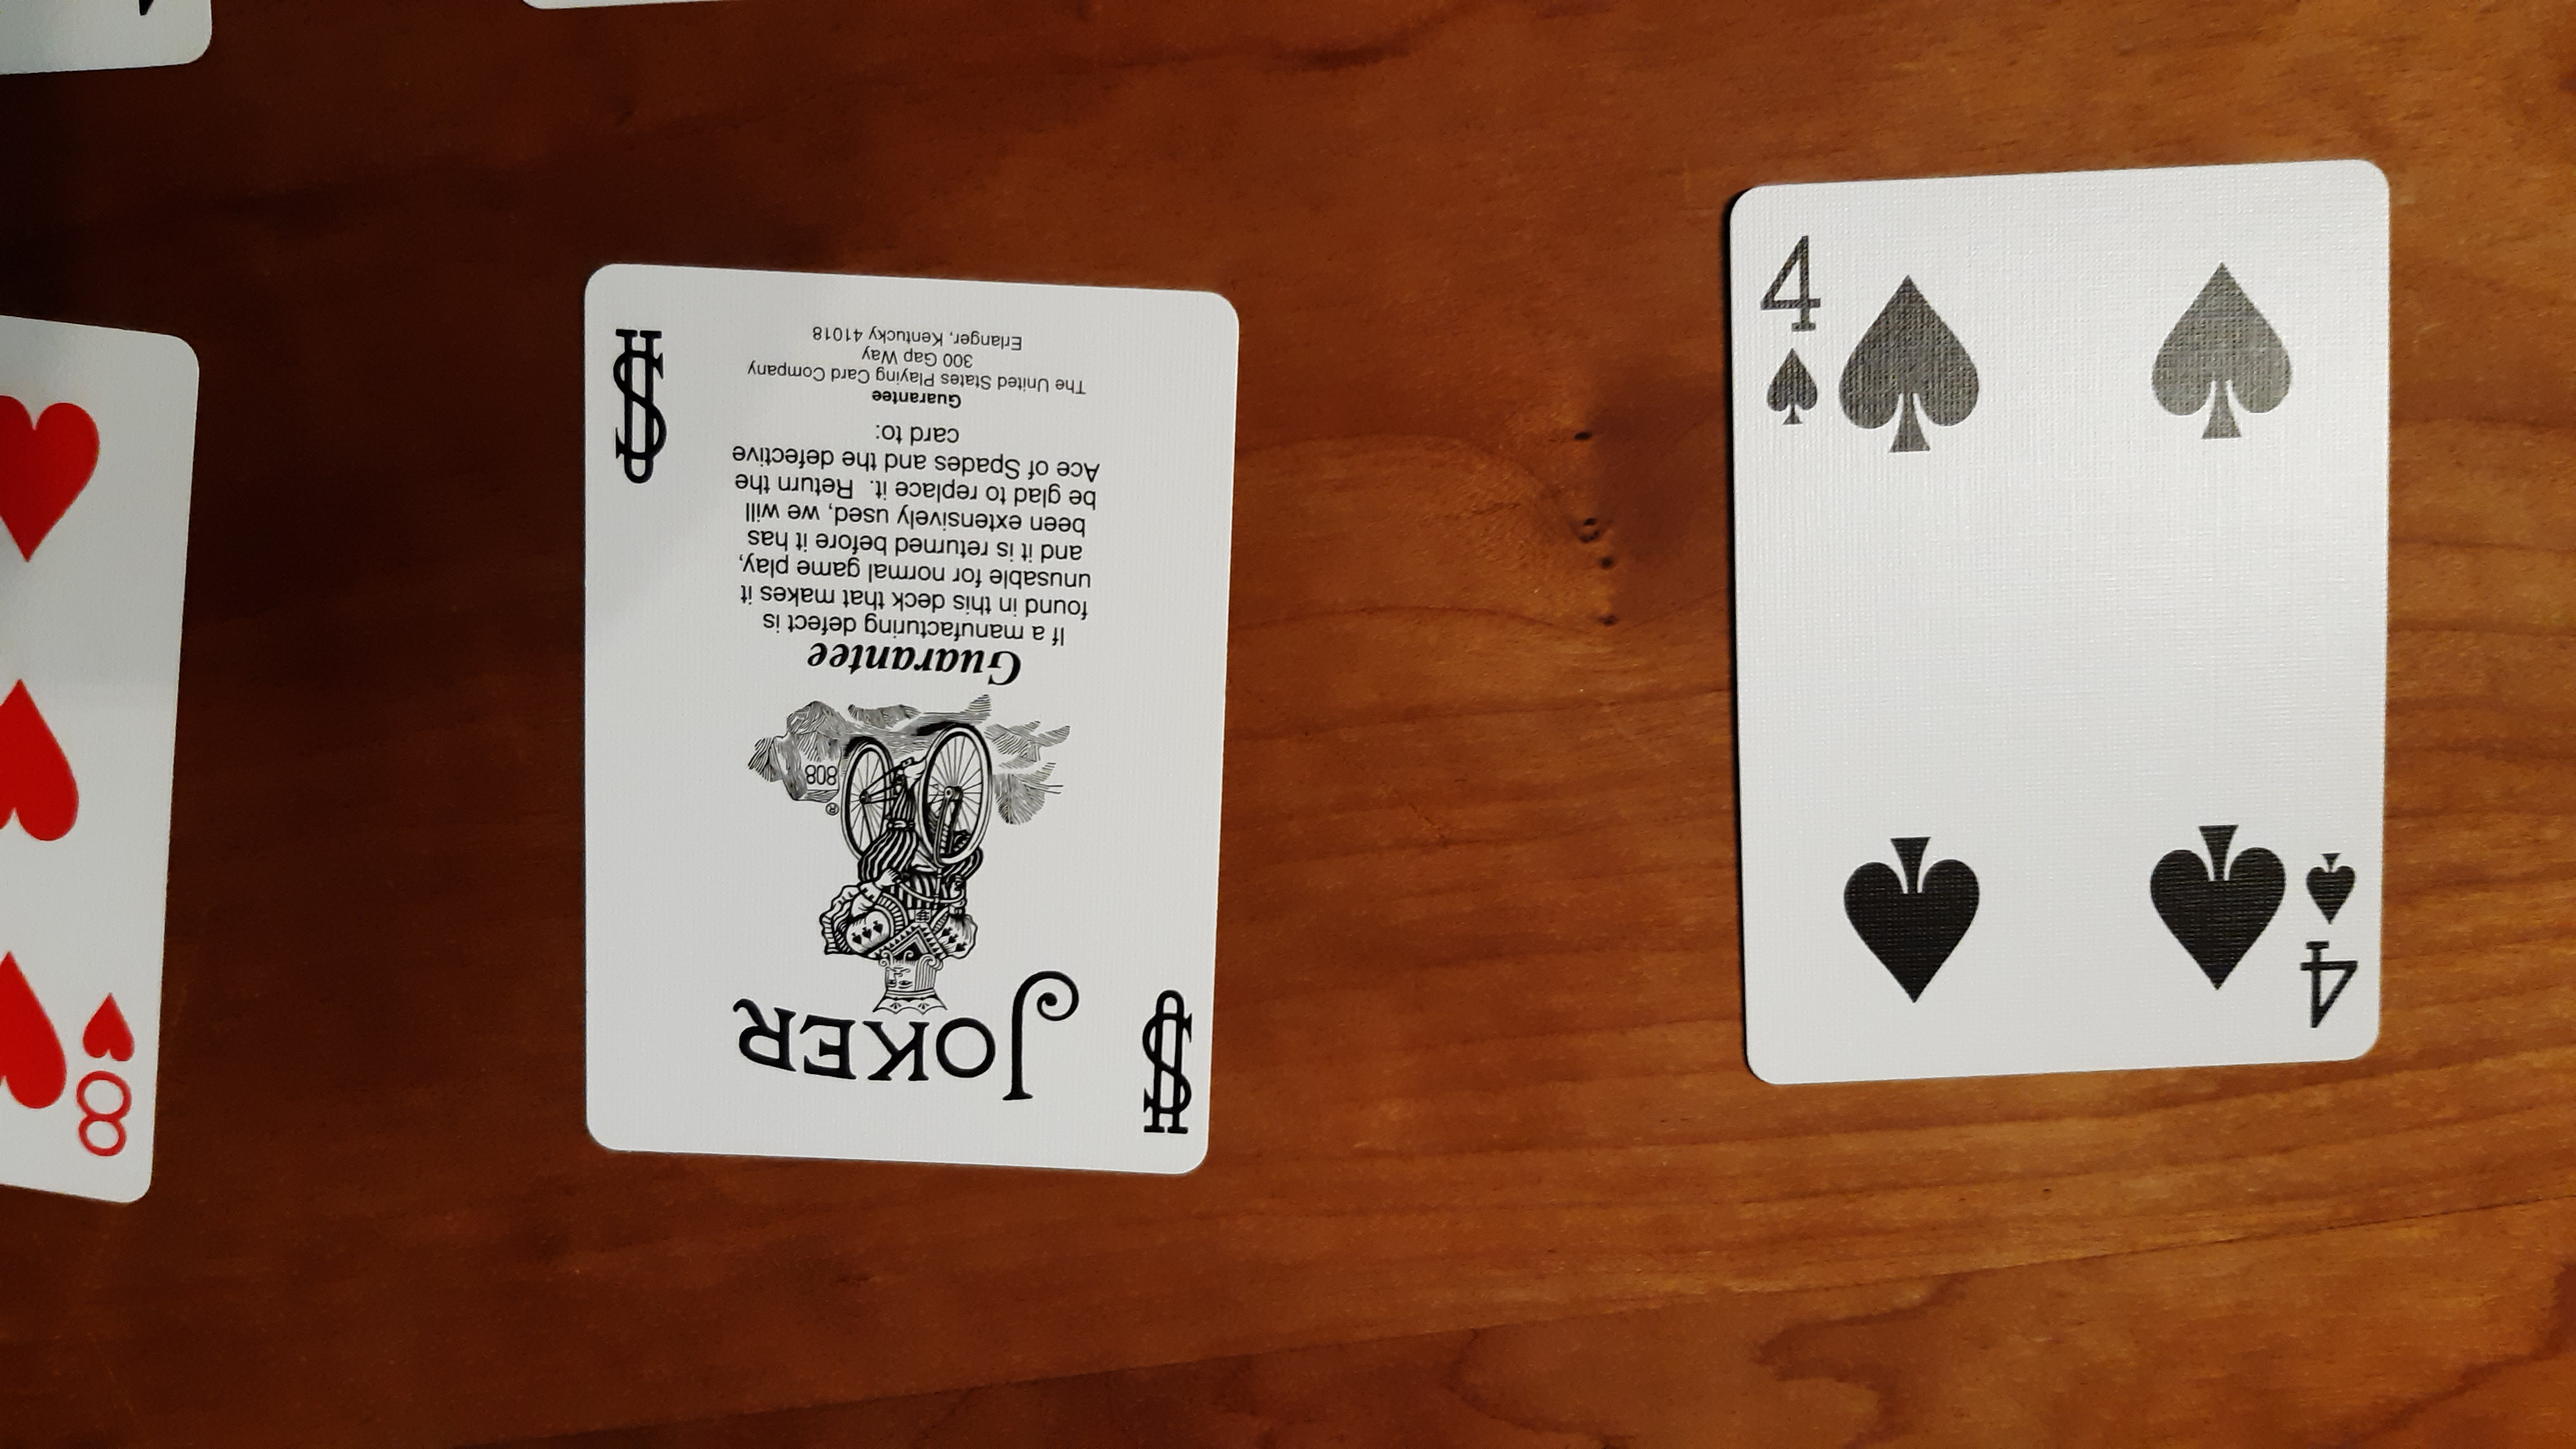Black_Spade_4: (1750, 230, 1836, 432), (2289, 842, 2362, 1035)
Joker: (713, 957, 1093, 1109)
Red_Heart_8: (67, 987, 142, 1162)
